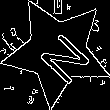N_NW: (25, 20, 89, 83)
